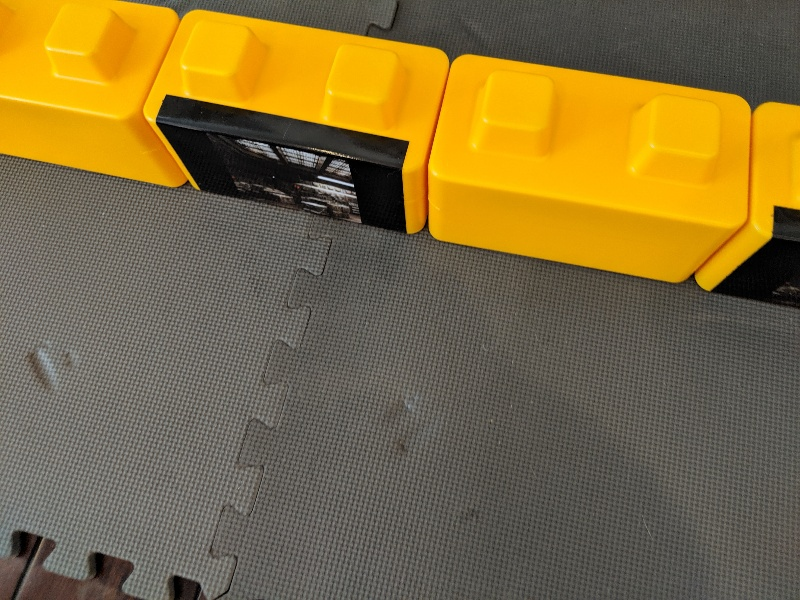Skystone: (152, 89, 421, 238)
